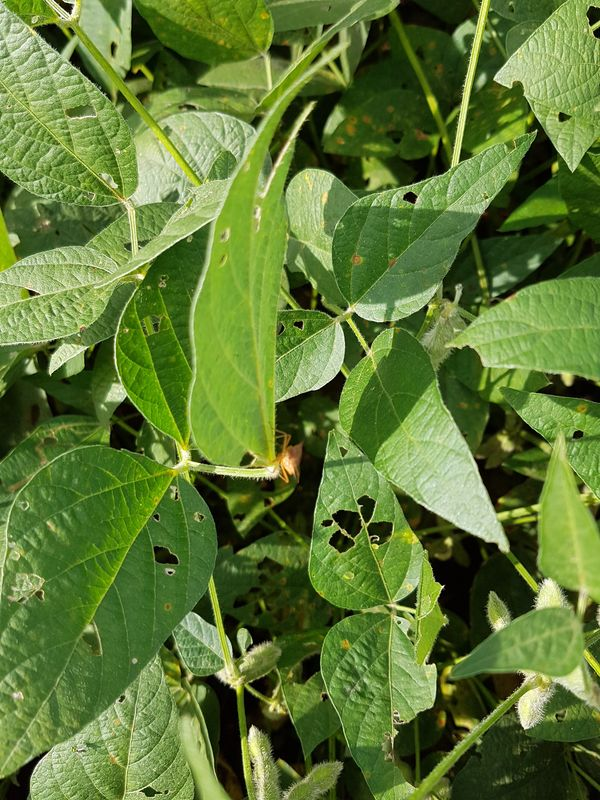Euschistus_heros_adulto: (254, 421, 317, 489)
